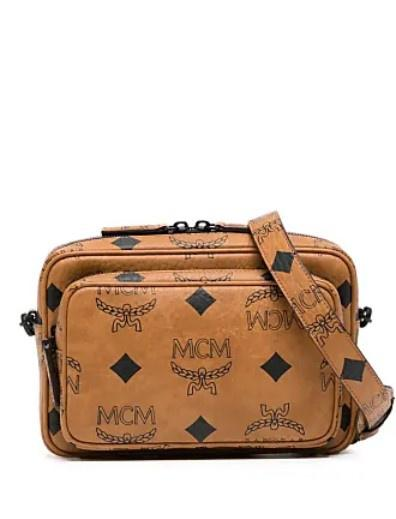MCM: (42, 231, 370, 458)
